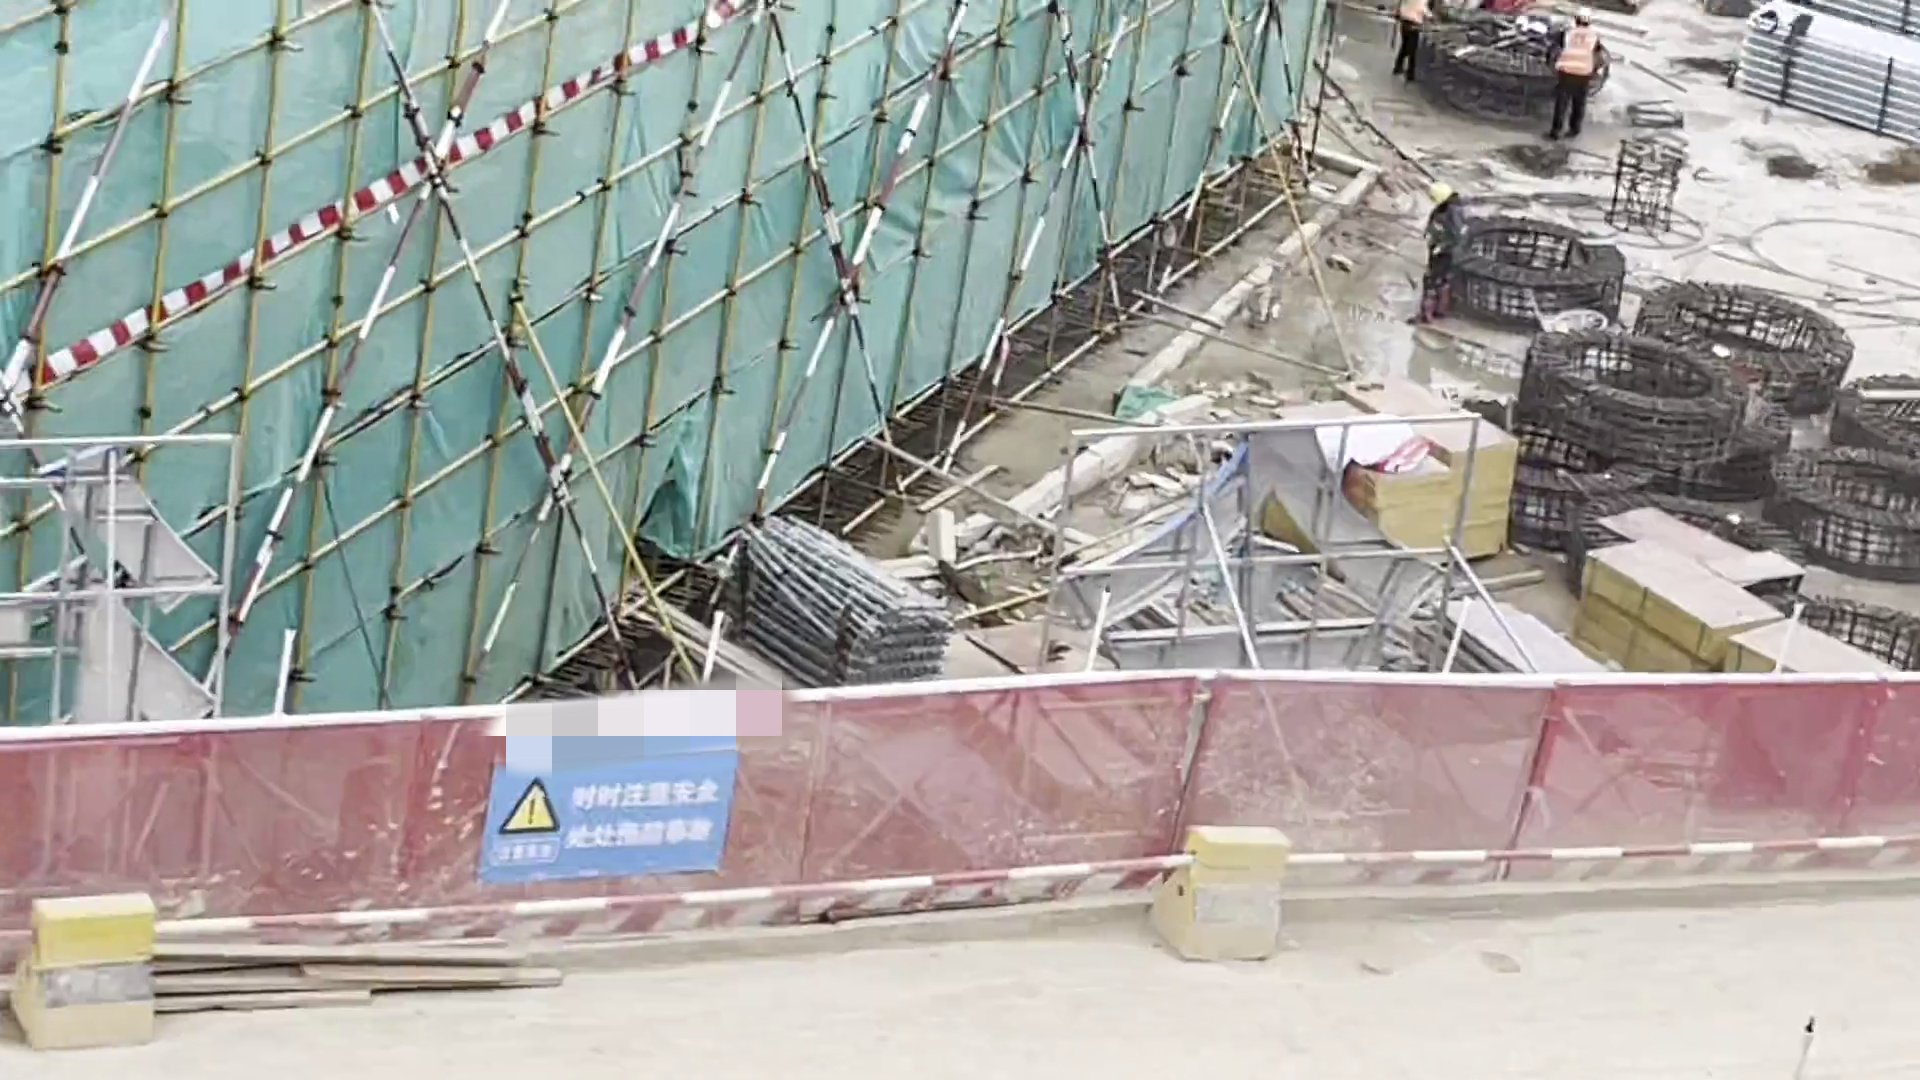board: (1302, 363, 1522, 581), (1572, 530, 1786, 675), (1723, 616, 1897, 680)
fence: (24, 651, 1920, 946)
helmet: (1574, 2, 1601, 23)
person: (1551, 1, 1602, 149), (1399, 1, 1430, 82)
scaffold: (747, 514, 966, 698), (1750, 11, 1920, 140)
slogan: (497, 717, 735, 879)
vest: (1561, 27, 1600, 81), (1393, 1, 1429, 35)
